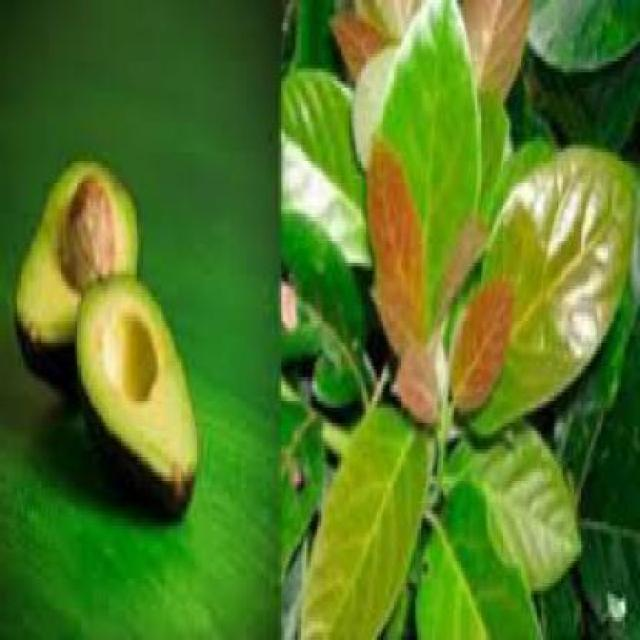BIODEGRADABLE: (462, 138, 638, 430), (376, 0, 484, 289), (78, 266, 200, 519), (18, 148, 140, 388), (304, 404, 430, 636), (443, 415, 586, 587), (416, 469, 546, 636), (361, 0, 533, 115), (582, 304, 638, 638), (283, 65, 372, 263), (282, 205, 368, 404), (372, 133, 431, 358), (447, 275, 521, 419), (538, 45, 638, 140), (282, 392, 326, 576), (524, 0, 638, 69), (60, 172, 120, 286), (331, 0, 396, 72), (396, 335, 442, 427)
